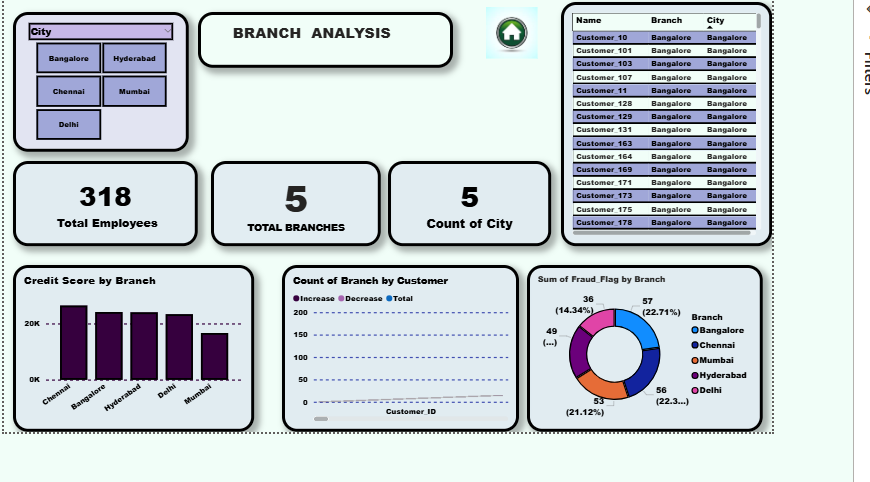

This screenshot's page, from the dashboard's own definition file:
{"tool":"powerbi","page":{"name":"BRANCH","canvas":[1280,720],"ordinal":4},"visuals":[{"type":"card","fields":{"Values":["Sum(Branches.Total_Employees)"]},"box":[15,268.3,308.3,141.7],"z":0},{"type":"slicer","fields":{"Values":["Branches.City"]},"box":[15,20,293.3,233.3],"z":1000},{"type":"card","fields":{"Values":["CountNonNull(Branches.City)"]},"box":[640,268.3,271.7,141.7],"z":2000},{"type":"card","fields":{"Values":["Sum(DATA.TOTAL BRANCHES)"]},"box":[345,268.3,283.3,141.7],"z":3000},{"type":"waterfallChart","title":"Count of Branch by Customer","fields":{"Category":["Customers.Customer_ID"],"Y":["CountNonNull(Customers.Branch)"]},"box":[463.3,441.7,395,278.3],"z":4000},{"type":"tableEx","fields":{"Values":["Customers.Name","Branches.Branch","Branches.City"]},"box":[928.3,3.3,351.7,406.7],"z":5000},{"type":"donutChart","fields":{"Category":["Customers.Branch"],"Y":["Sum(Transactions.Fraud_Flag)"]},"box":[871.7,441.7,393.3,278.3],"z":6000},{"type":"lineStackedColumnComboChart","fields":{"Category":["Branches.Branch"],"Y":["Sum(Customers.Credit_Score)"]},"box":[15,441.7,401.7,278.3],"z":7000},{"type":"textbox","box":[322.5,20,425,92.5],"z":7001},{"type":"image","box":[762.9,7.1,165.7,95.7],"z":7002}]}

Visuals, with their boxes on the page's 1280x720 design canvas (x1, y1, x2, y2). These are canvas units, not pixel positions in the 870x482 screenshot, which may show the page scaled, cropped or inside an application window:
card - Sum(Branches.Total_Employees): left=15, top=268, right=323, bottom=410
slicer - Branches.City: left=15, top=20, right=308, bottom=253
card - CountNonNull(Branches.City): left=640, top=268, right=912, bottom=410
card - Sum(DATA.TOTAL BRANCHES): left=345, top=268, right=628, bottom=410
"Count of Branch by Customer" waterfallChart: left=463, top=442, right=858, bottom=720
tableEx - Customers.Name x Branches.Branch: left=928, top=3, right=1280, bottom=410
donutChart - Customers.Branch x Sum(Transactions.Fraud_Flag): left=872, top=442, right=1265, bottom=720
lineStackedColumnComboChart - Branches.Branch x Sum(Customers.Credit_Score): left=15, top=442, right=417, bottom=720
textbox: left=322, top=20, right=748, bottom=112
image: left=763, top=7, right=929, bottom=103
